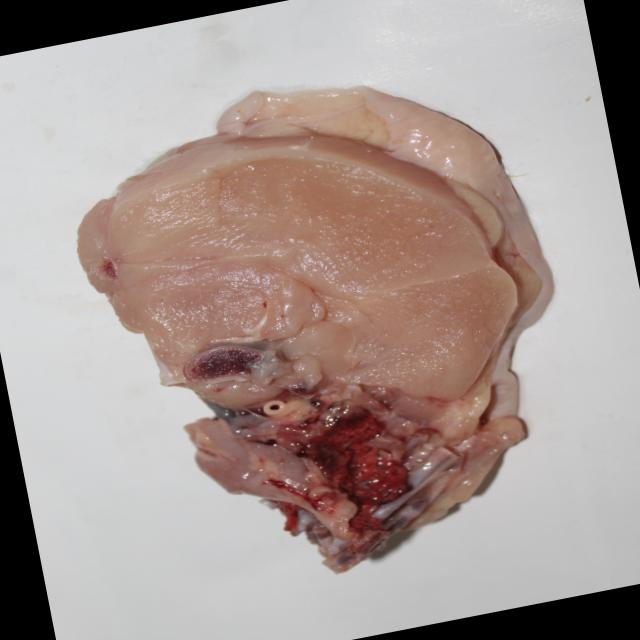chicken: (56, 54, 603, 612)
